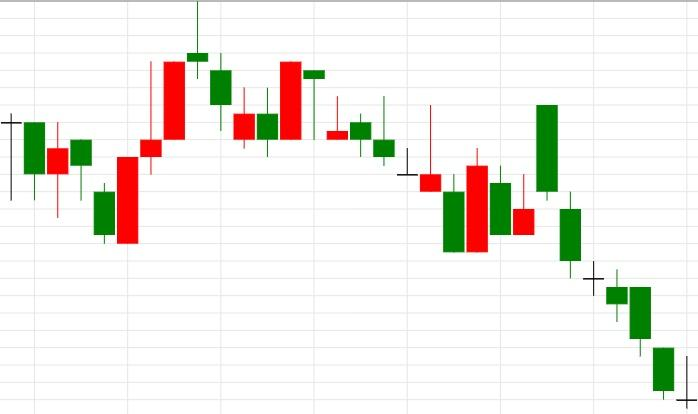bullish_engulfing_rise: (304, 70, 488, 252), (1, 112, 138, 244)
evening_star_fall: (117, 1, 232, 244)
